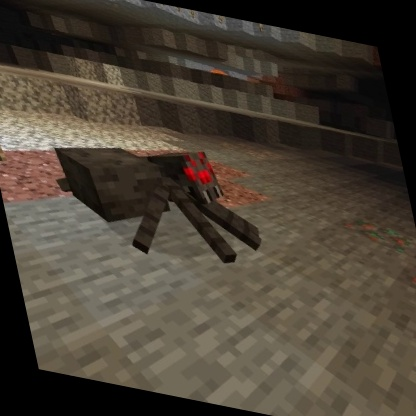spider: (39, 115, 275, 283)
